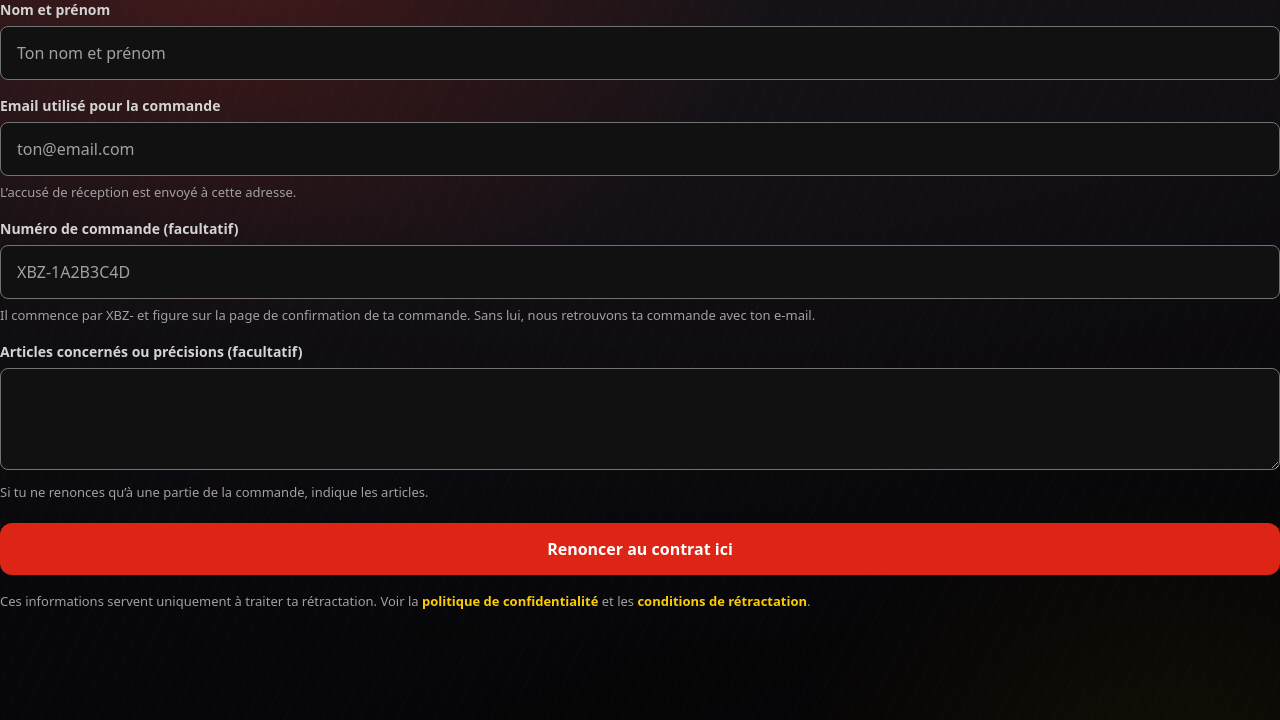
Scenario: WithdrawalForm — « Renoncer au contrat ici », puis « Confirmer la rétractation » › le premier bouton n'envoie RIEN : il mène à la relecture
In the field named "nom": (640, 53) [0,26,1279,80], type "Jeanne Martin"
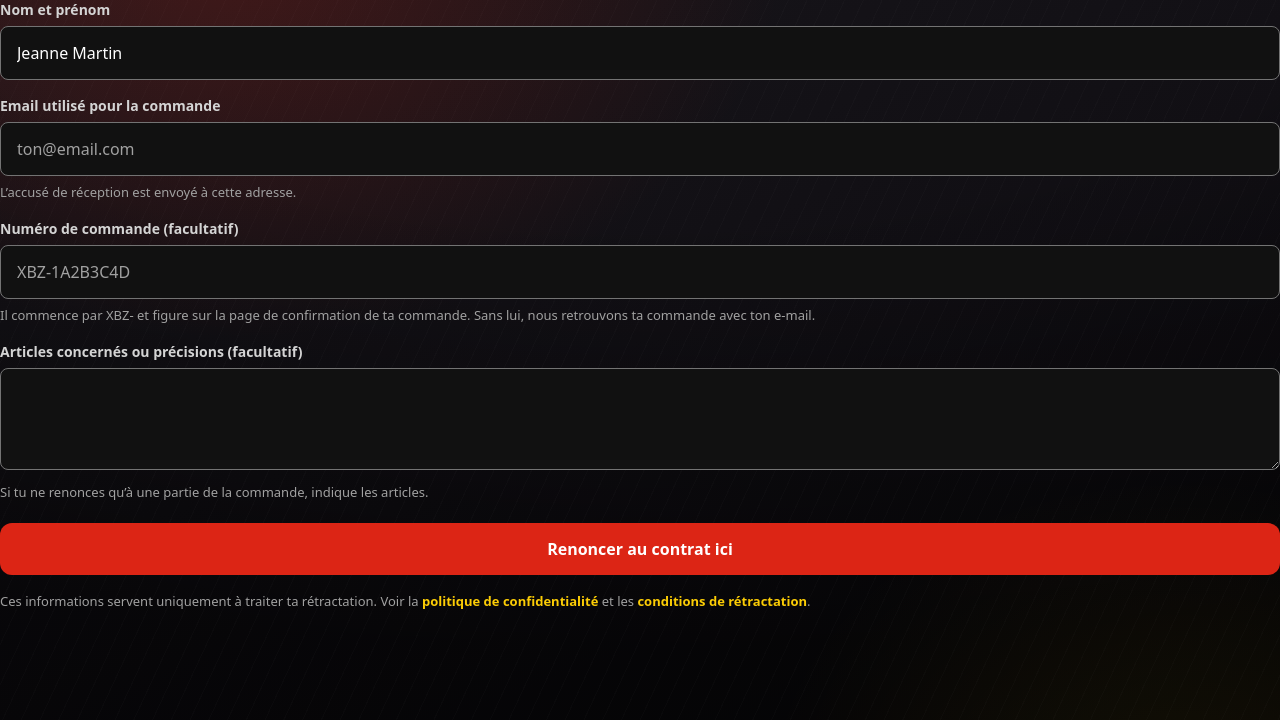
In the field named "email": (640, 149) [0,122,1279,176], type "jeanne@exemple.fr"
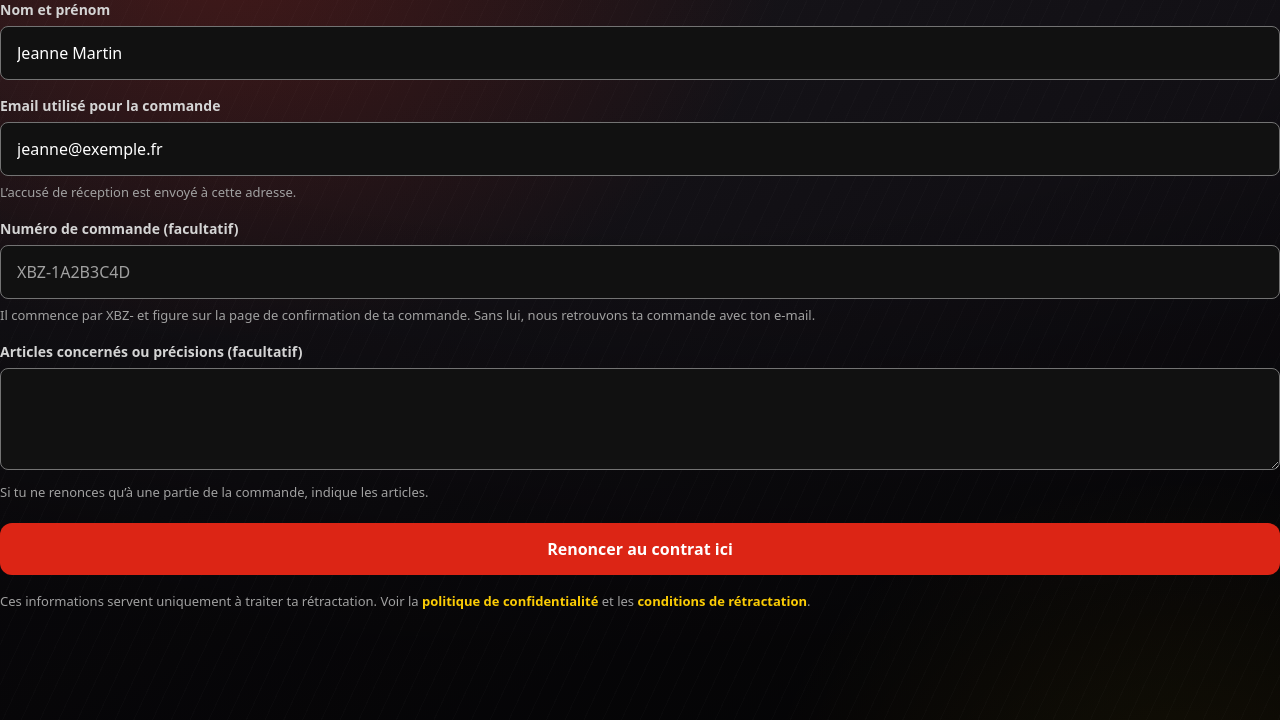
In the field named "commande": (640, 272) [0,245,1279,299], type "xbz-1a2b3c4d"
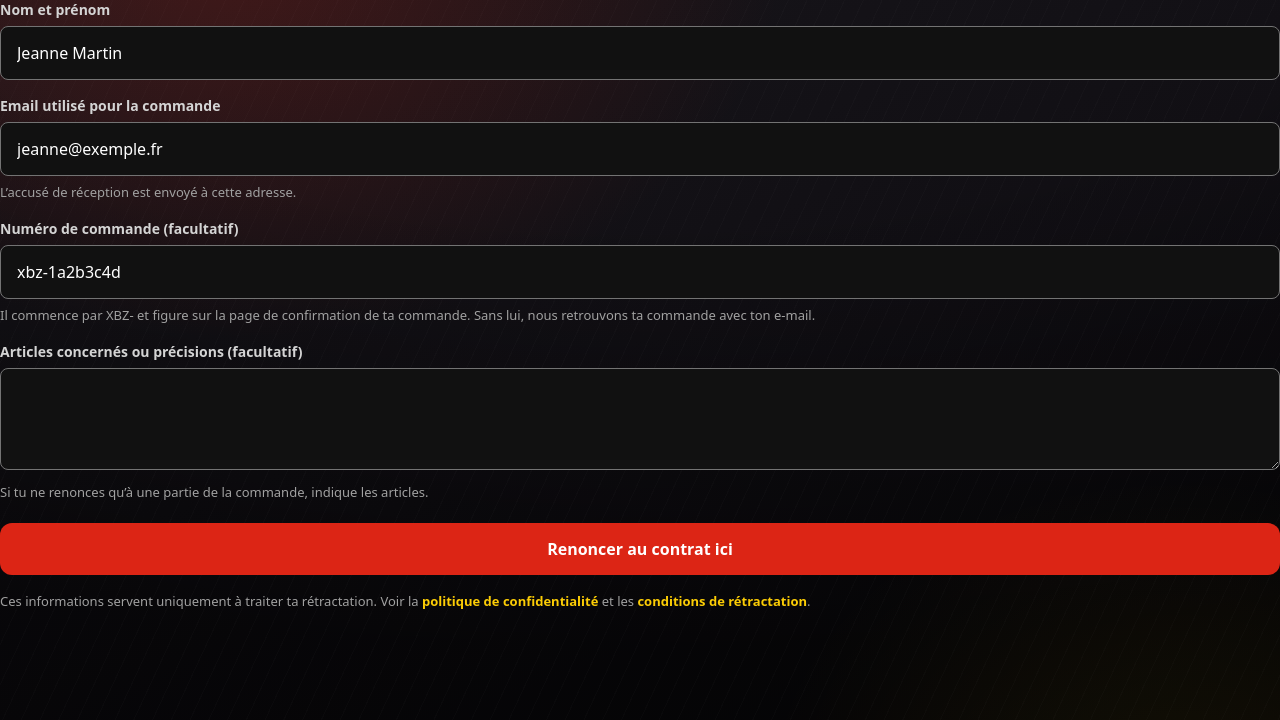
In the text box named "details": (640, 419) [0,368,1279,470], type "Le maillot M"
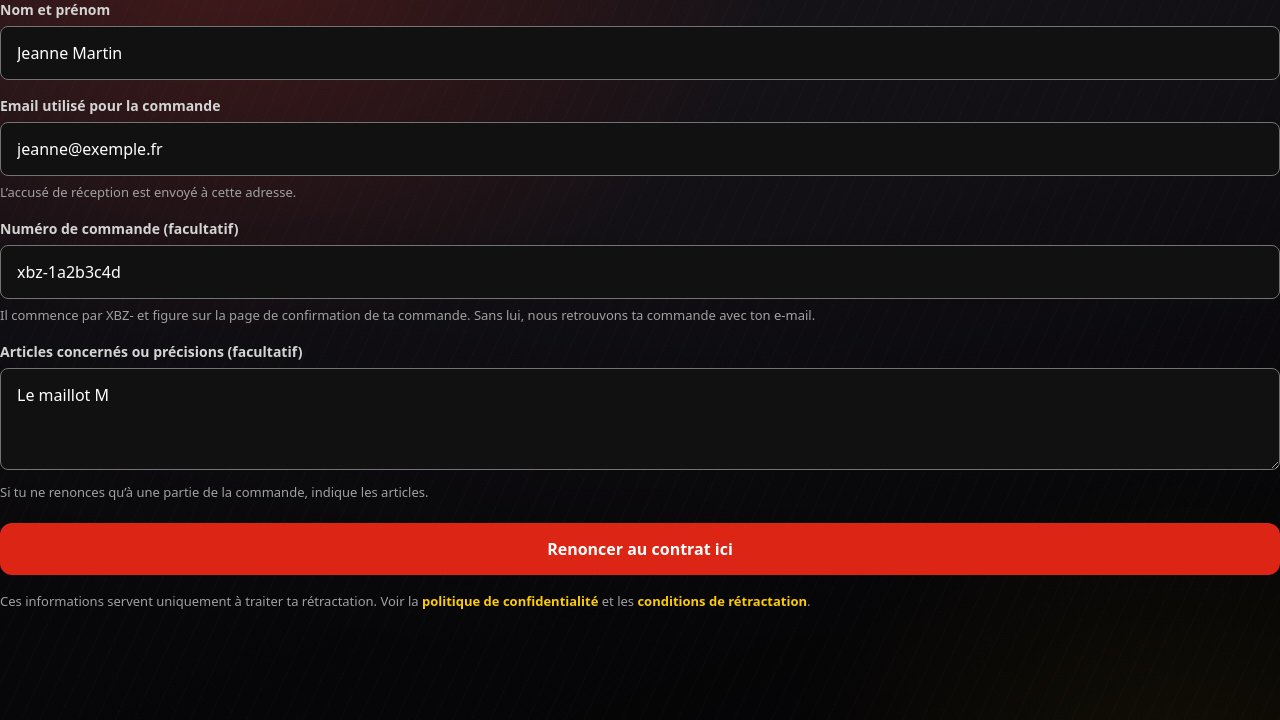
Submit the form
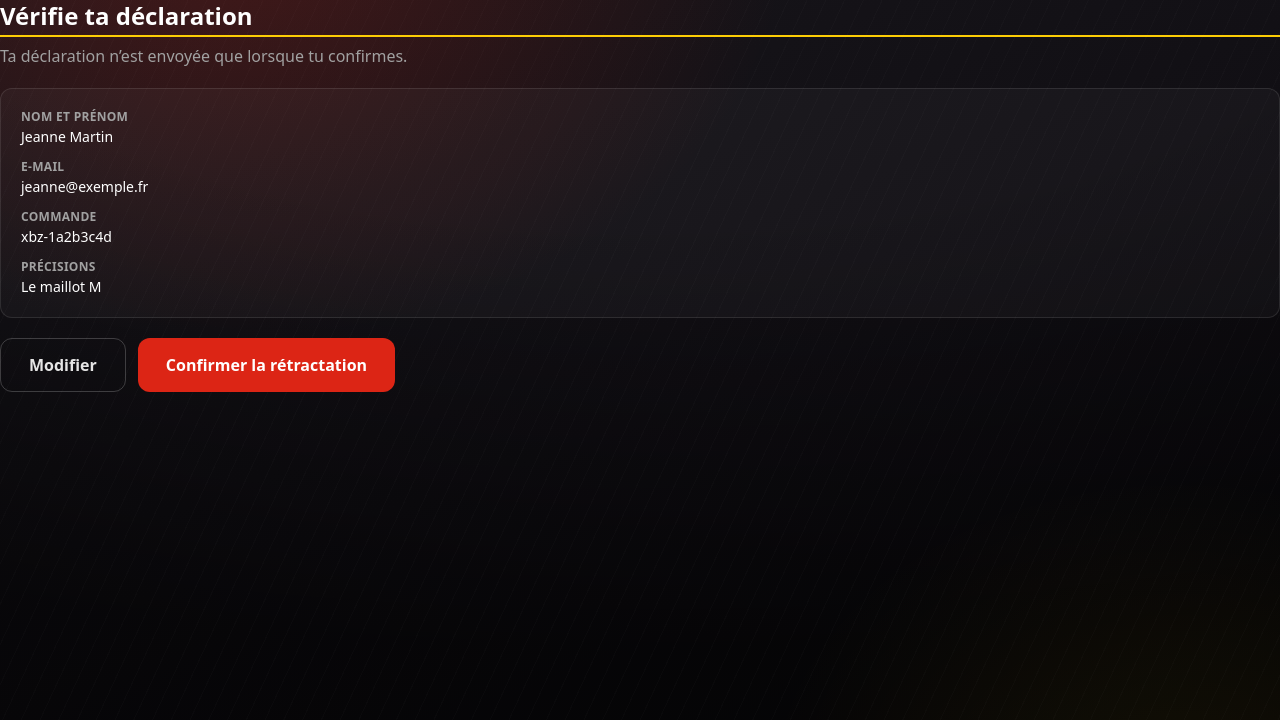
Expected: the heading "Vérifie ta déclaration" is shown, [0,0,252,32]
Expected: the text "Jeanne Martin" is shown, [21,127,113,146]
Expected: the text "jeanne@exemple.fr" is shown, [21,177,148,196]
